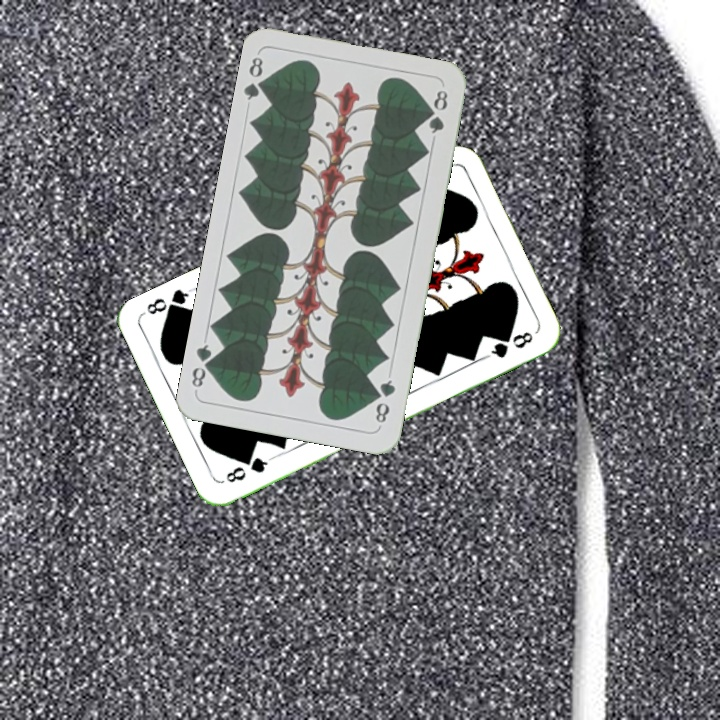G8: (221, 453, 275, 486), (240, 53, 271, 103), (371, 375, 398, 429)
